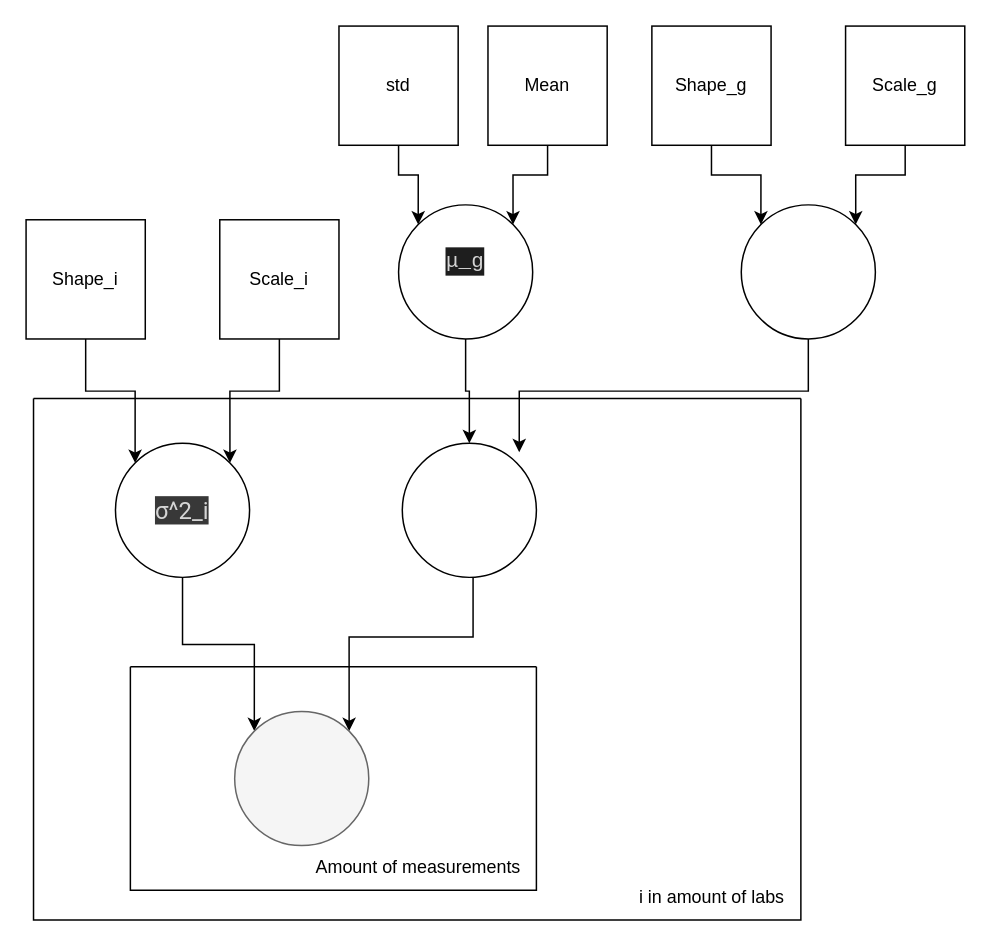
The diagram is 991 pixels wide and 946 high, and some of its shapes have lost their labels. Here are the shapes that lost their labels. From the top down, the centre of each, then its label:
point (807, 271): σ^2_g
point (468, 509): θ_i
point (301, 778): x_ij
